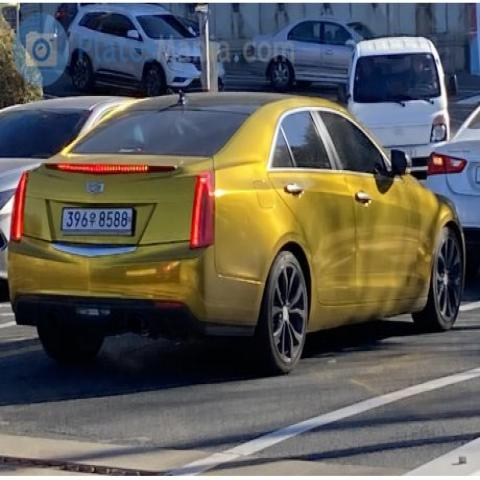LP: (55, 194, 139, 246)
